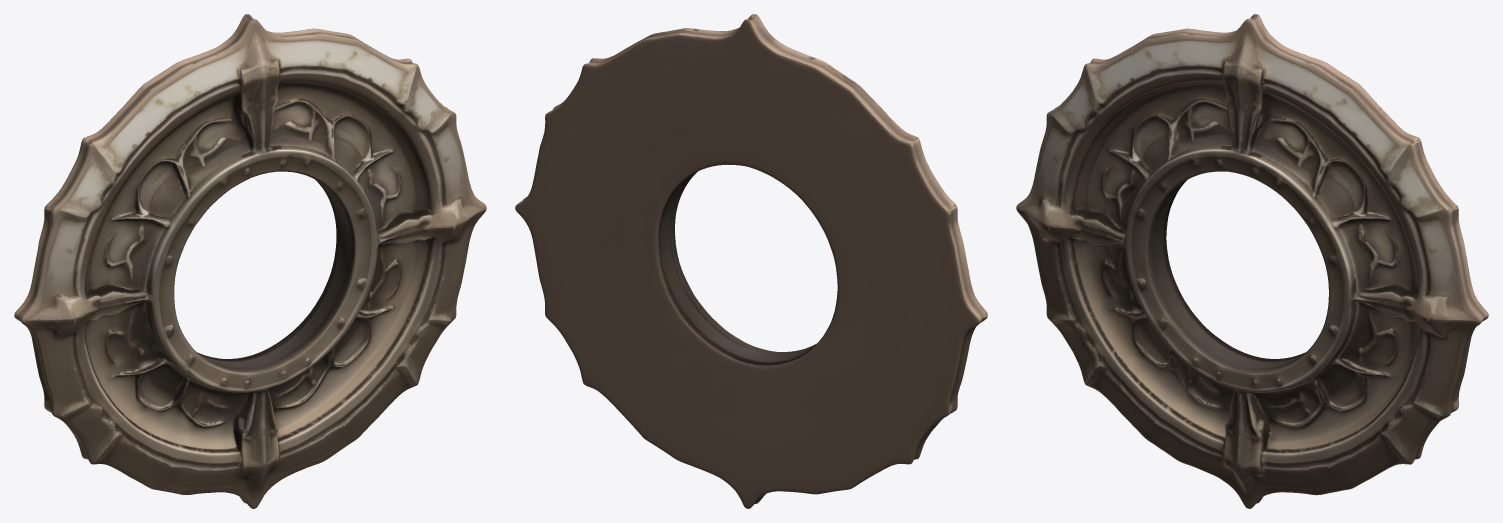
Rendered from Portal 10.fbx.
3 renders of one model, left to right at view 1: azimuth 30°, elevation 25°; view 2: azimuth 150°, elevation 25°; view 3: azimuth 330°, elevation 25°, orthographic.
Parts seen in each view (by area): view 1: Portal 10; view 2: Portal 10; view 3: Portal 10.
Part boxes in pixels (x1=…): Portal 10: x1=14, y1=14, x2=486, y2=508; Portal 10: x1=515, y1=14, x2=987, y2=508; Portal 10: x1=1016, y1=14, x2=1488, y2=508.
Size of the model in its own units: 188 by 189 by 14.44.
Materials: 1 (1 with a texture image).
